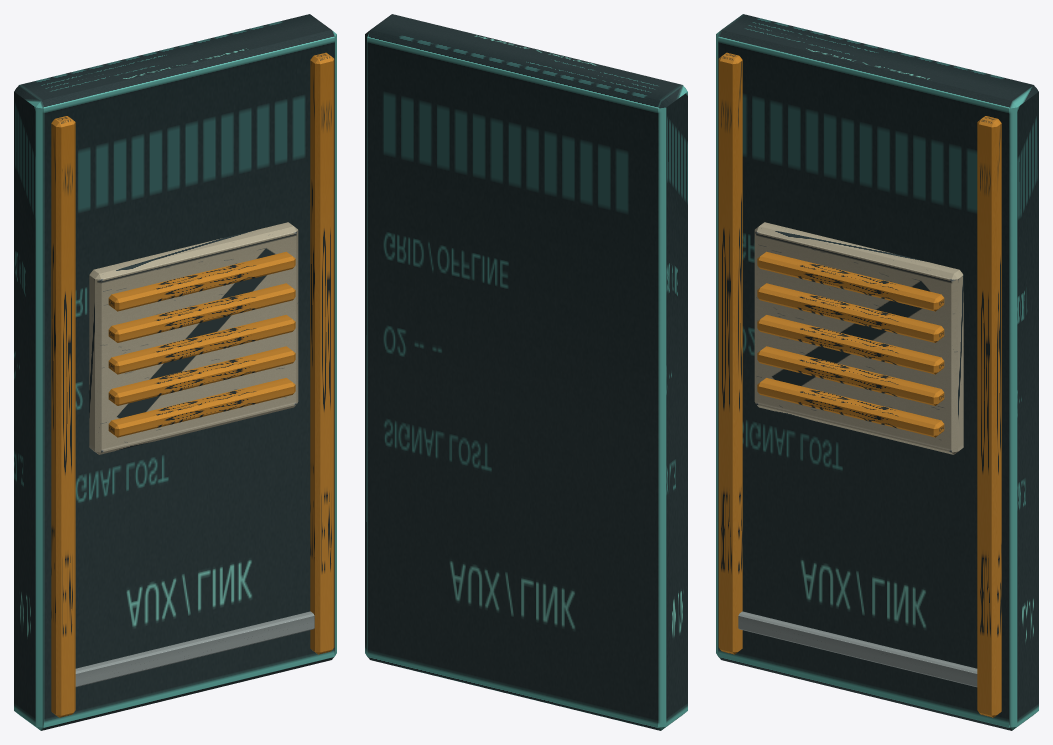
Rendered from wall_vent_2m_LOD1.obj.
The picture shows the model from 3 angles, left to right: view 1: azimuth 30°, elevation 25°; view 2: azimuth 150°, elevation 25°; view 3: azimuth 330°, elevation 25°; orthographic projection.
Visible parts, largest first — view 1: L02_wall_vent_2m_LOD1; view 2: L02_wall_vent_2m_LOD1; view 3: L02_wall_vent_2m_LOD1.
Boxes of the visible parts, <box> form: L02_wall_vent_2m_LOD1: <box>14,14,336,730</box>; L02_wall_vent_2m_LOD1: <box>365,14,687,730</box>; L02_wall_vent_2m_LOD1: <box>716,14,1038,730</box>.
Size of the model in its own units: 2 by 4 by 0.52.
Materials: 1 (1 with a texture image).
